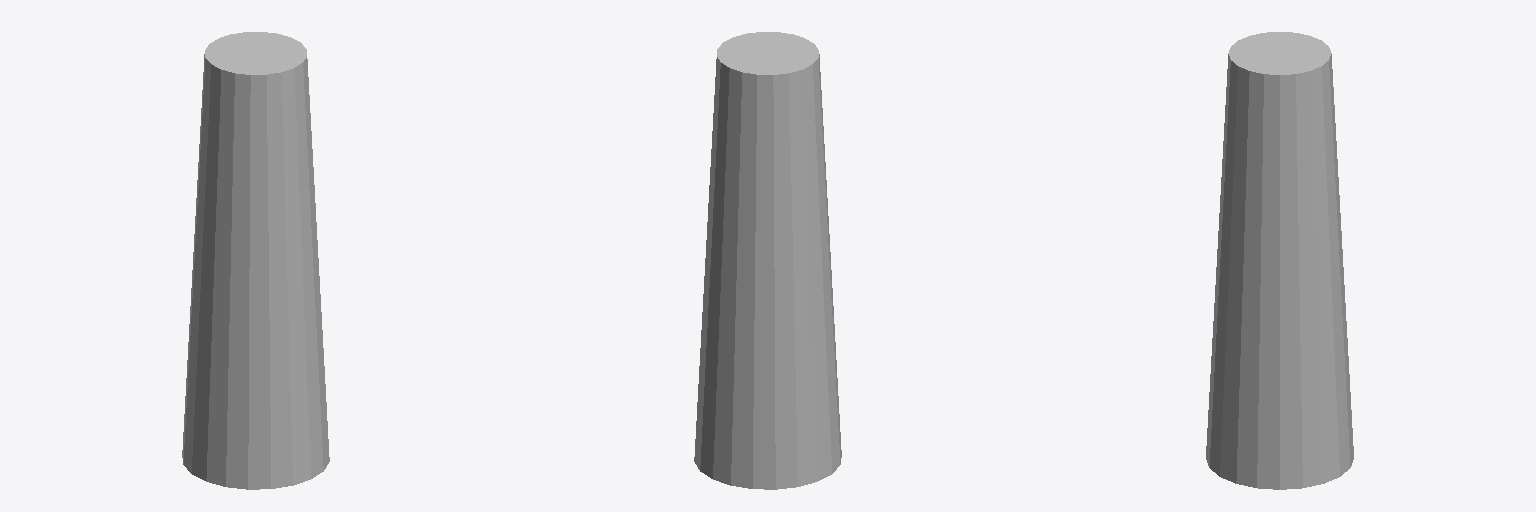
Rendered from concrete_stump.obj.
3 renders of one model, left to right at view 1: azimuth 30°, elevation 25°; view 2: azimuth 150°, elevation 25°; view 3: azimuth 270°, elevation 25°, orthographic.
Parts seen in each view (by area): view 1: concrete_stump; view 2: concrete_stump; view 3: concrete_stump.
Part boxes in pixels (x1,y1,x2,y2): concrete_stump: (182, 32, 329, 489); concrete_stump: (694, 32, 841, 489); concrete_stump: (1206, 32, 1353, 489).
Size of the model in its own units: 0.2875 by 0.8662 by 0.2875.